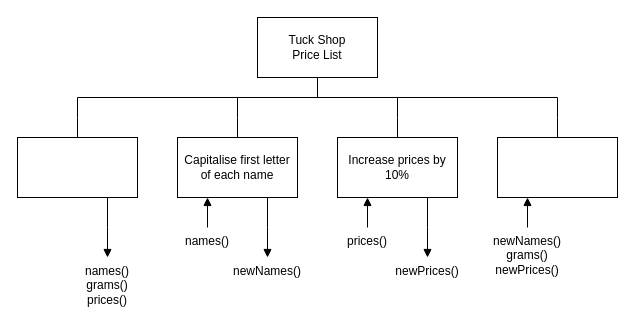
Image size: 635x335. Some labels were removed from this diagram. The shapes that lost their labels are listed below. From the top down, each one's box as (x1, y1, x2, y2) in pixels, then its label:
(16, 136, 138, 198): Get data
(496, 136, 618, 198): Create price list file Items < £1 in pence
